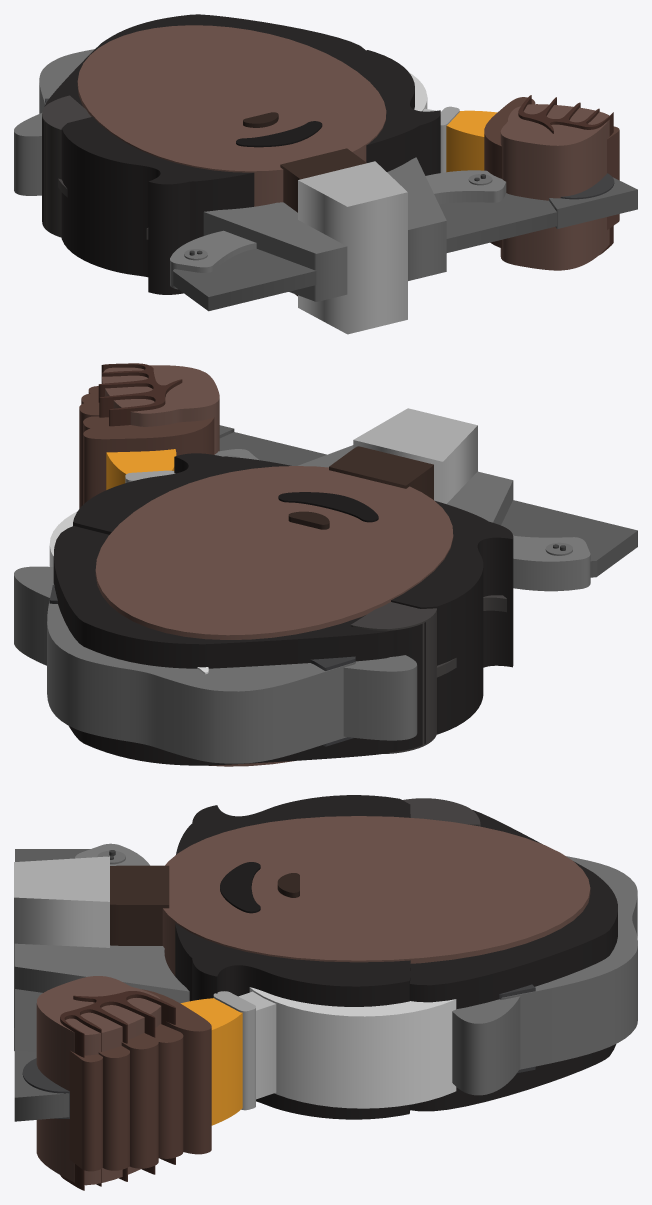
Rendered from emoji_u1f575_1f3ff.glb.
3 views of the same model, one above another, from view 1: azimuth 30°, elevation 25°; view 2: azimuth 150°, elevation 25°; view 3: azimuth 270°, elevation 25° (orthographic). The views are drawn at different scales.
Parts seen in each view (by area): view 1: emoji_u1f575_1f3ff; view 2: emoji_u1f575_1f3ff; view 3: emoji_u1f575_1f3ff.
Boxes of the visible parts, bbox=[...] form: emoji_u1f575_1f3ff: bbox=[14, 14, 637, 334]; emoji_u1f575_1f3ff: bbox=[14, 363, 637, 766]; emoji_u1f575_1f3ff: bbox=[14, 795, 637, 1190].
Size of the model in its own units: 0.0326 by 0.0092 by 0.0331.
